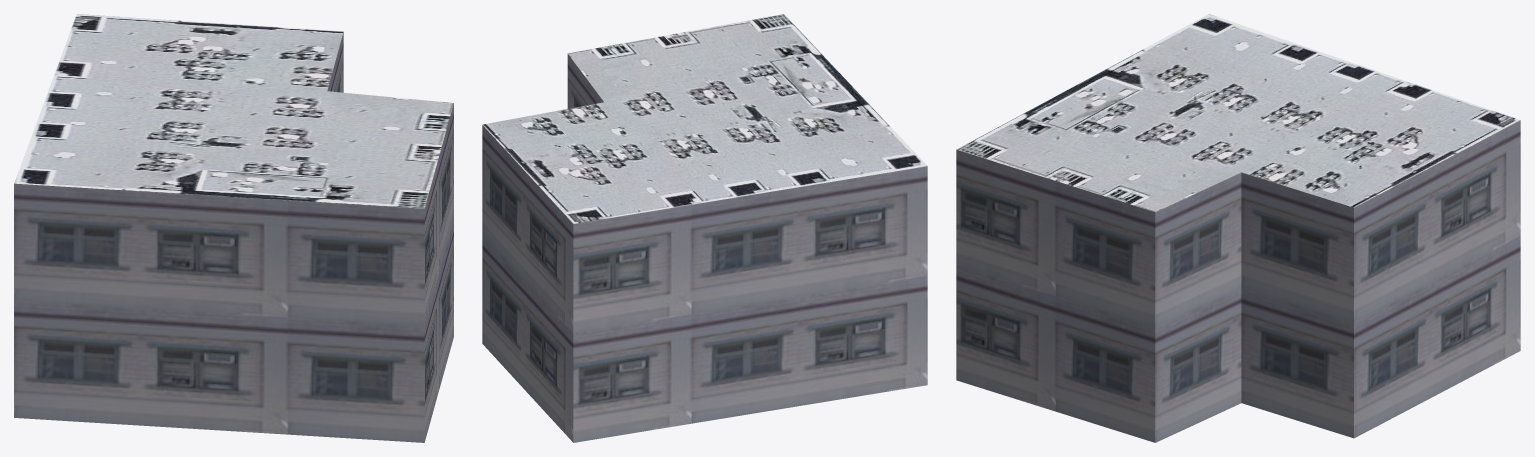
File: ResTex__4115.fbx
The picture shows the model from 3 angles, left to right: view 1: azimuth 30°, elevation 25°; view 2: azimuth 150°, elevation 25°; view 3: azimuth 270°, elevation 25°; orthographic projection. The views are drawn at different scales.
Parts seen in each view (by area): view 1: CityEngineMaterial_1_m, CityEngineMaterial_8_m; view 2: CityEngineMaterial_1_m, CityEngineMaterial_8_m; view 3: CityEngineMaterial_1_m, CityEngineMaterial_8_m.
Boxes of the visible parts, left/top/right/bottom form: CityEngineMaterial_1_m: left=14, top=32, right=453, bottom=442; CityEngineMaterial_8_m: left=14, top=14, right=453, bottom=208; CityEngineMaterial_1_m: left=482, top=54, right=927, bottom=442; CityEngineMaterial_8_m: left=482, top=14, right=927, bottom=223; CityEngineMaterial_1_m: left=956, top=120, right=1520, bottom=442; CityEngineMaterial_8_m: left=957, top=14, right=1520, bottom=212.
Size of the model in its own units: 11.06 by 6 by 13.3.
2 materials, 2 textured.
